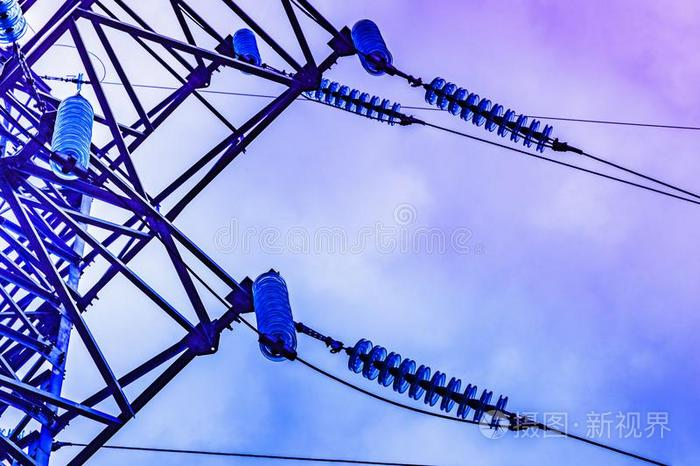insulator: (344, 337, 510, 431), (421, 78, 552, 152), (305, 82, 403, 127), (253, 272, 299, 362), (51, 93, 95, 181), (1, 2, 29, 45)
